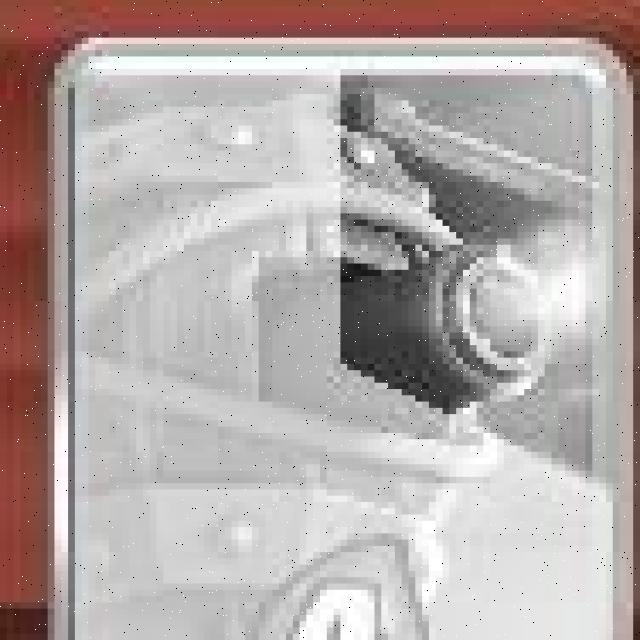Flying_Machine: (51, 36, 640, 639)
